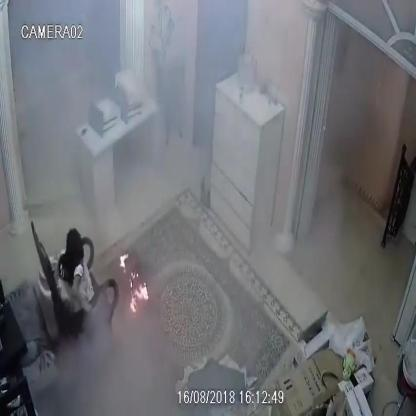fire: (130, 272, 148, 312), (120, 254, 128, 268)
